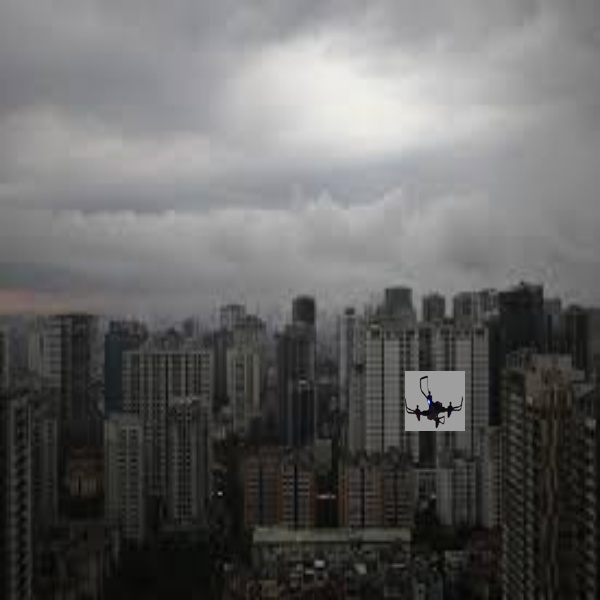drone: (406, 370, 465, 427)
